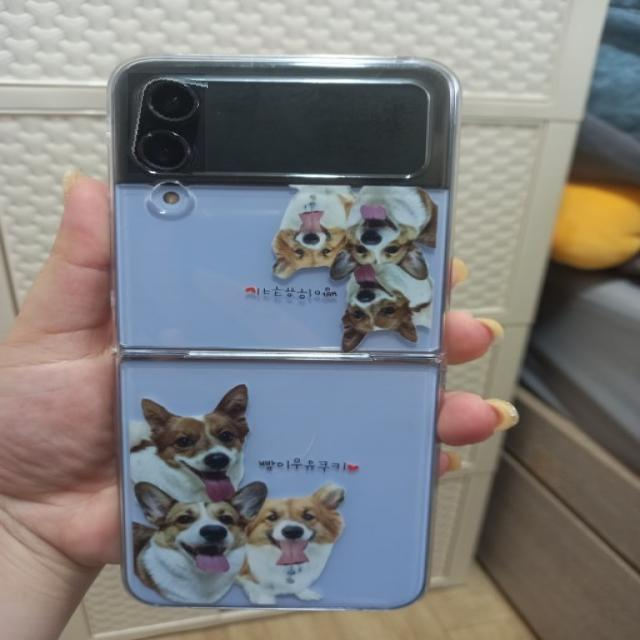lens: (128, 73, 205, 173)
phone: (104, 53, 465, 609)
